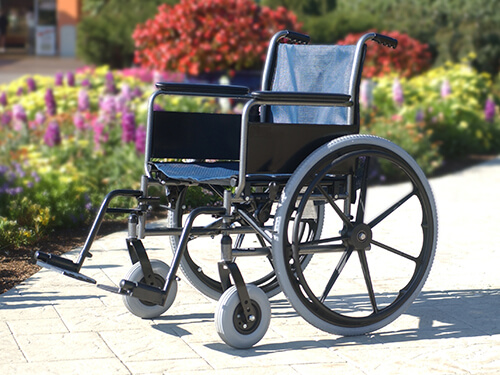wheelchair: (39, 30, 480, 350)
